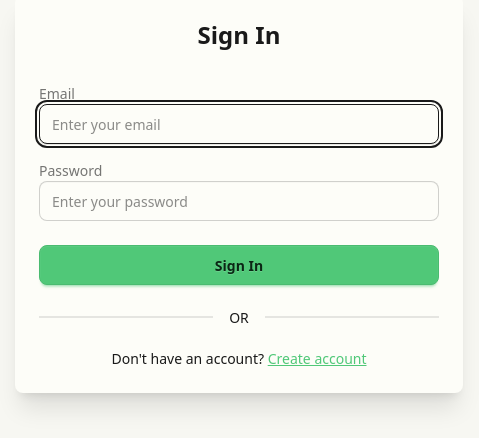
Login Page (Task 1.5) › form validation › should show error for empty password
Type "test@example.com" into the field labelled "Email".
click(239, 124); type("test@example.com")  # box [39,104,439,144]
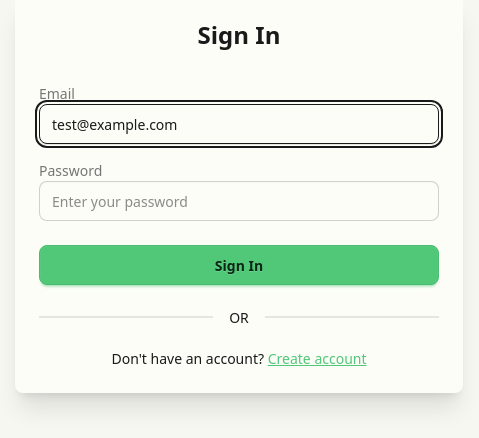
Click the button "Sign In".
click(239, 265)  # box [39,245,439,285]
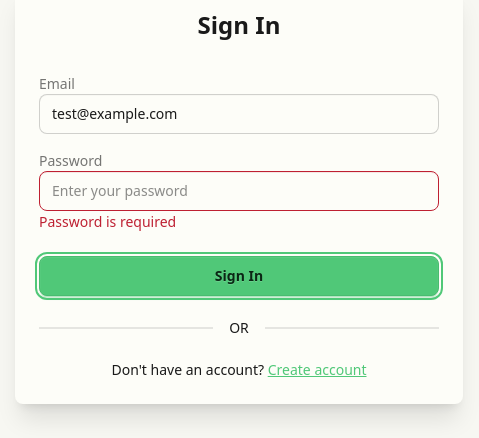
Expected: the text "Password is required" is shown, [39,212,176,230]
